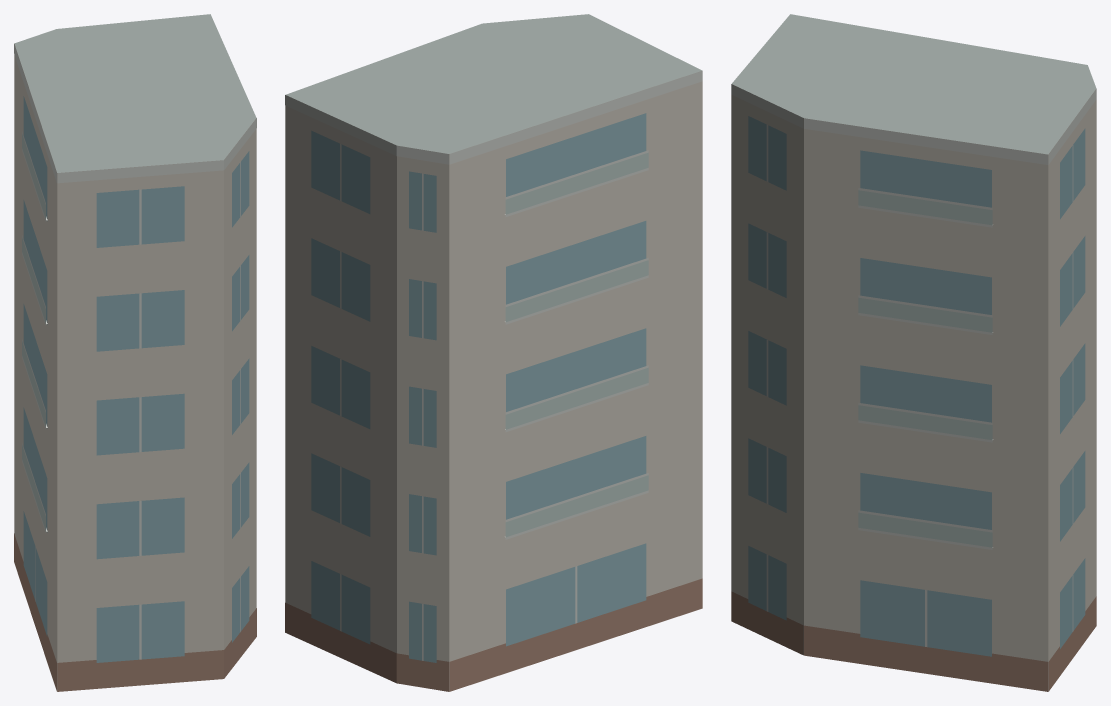
File: survey-upis-33012866.glb
The picture shows the model from 3 angles, left to right: view 1: azimuth 30°, elevation 25°; view 2: azimuth 150°, elevation 25°; view 3: azimuth 270°, elevation 25°; orthographic projection. The views are drawn at different scales.
Parts seen in each view (by area): view 1: survey-upis-33012866.tmp; view 2: survey-upis-33012866.tmp; view 3: survey-upis-33012866.tmp.
Part boxes in pixels (x1,y1,x2,y2): survey-upis-33012866.tmp: [14, 14, 256, 691]; survey-upis-33012866.tmp: [285, 14, 702, 691]; survey-upis-33012866.tmp: [731, 14, 1096, 691].
Size of the model in its own units: 6.91 by 12.3 by 7.59.
